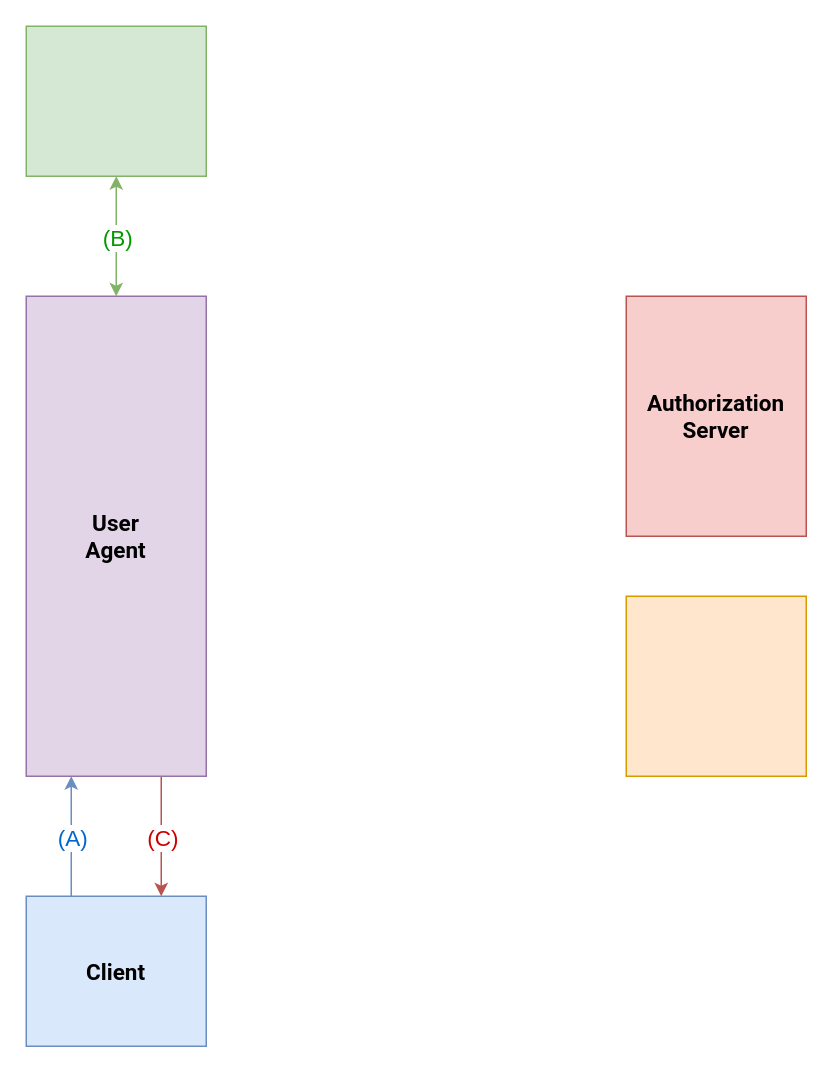
Image size: 833x1073. Some labels were removed from this diagram. Each missing label, with the box of its shape:
Resource Owner: (25, 25, 206, 176)
Web-Hosted Client Resource: (625, 595, 806, 776)
